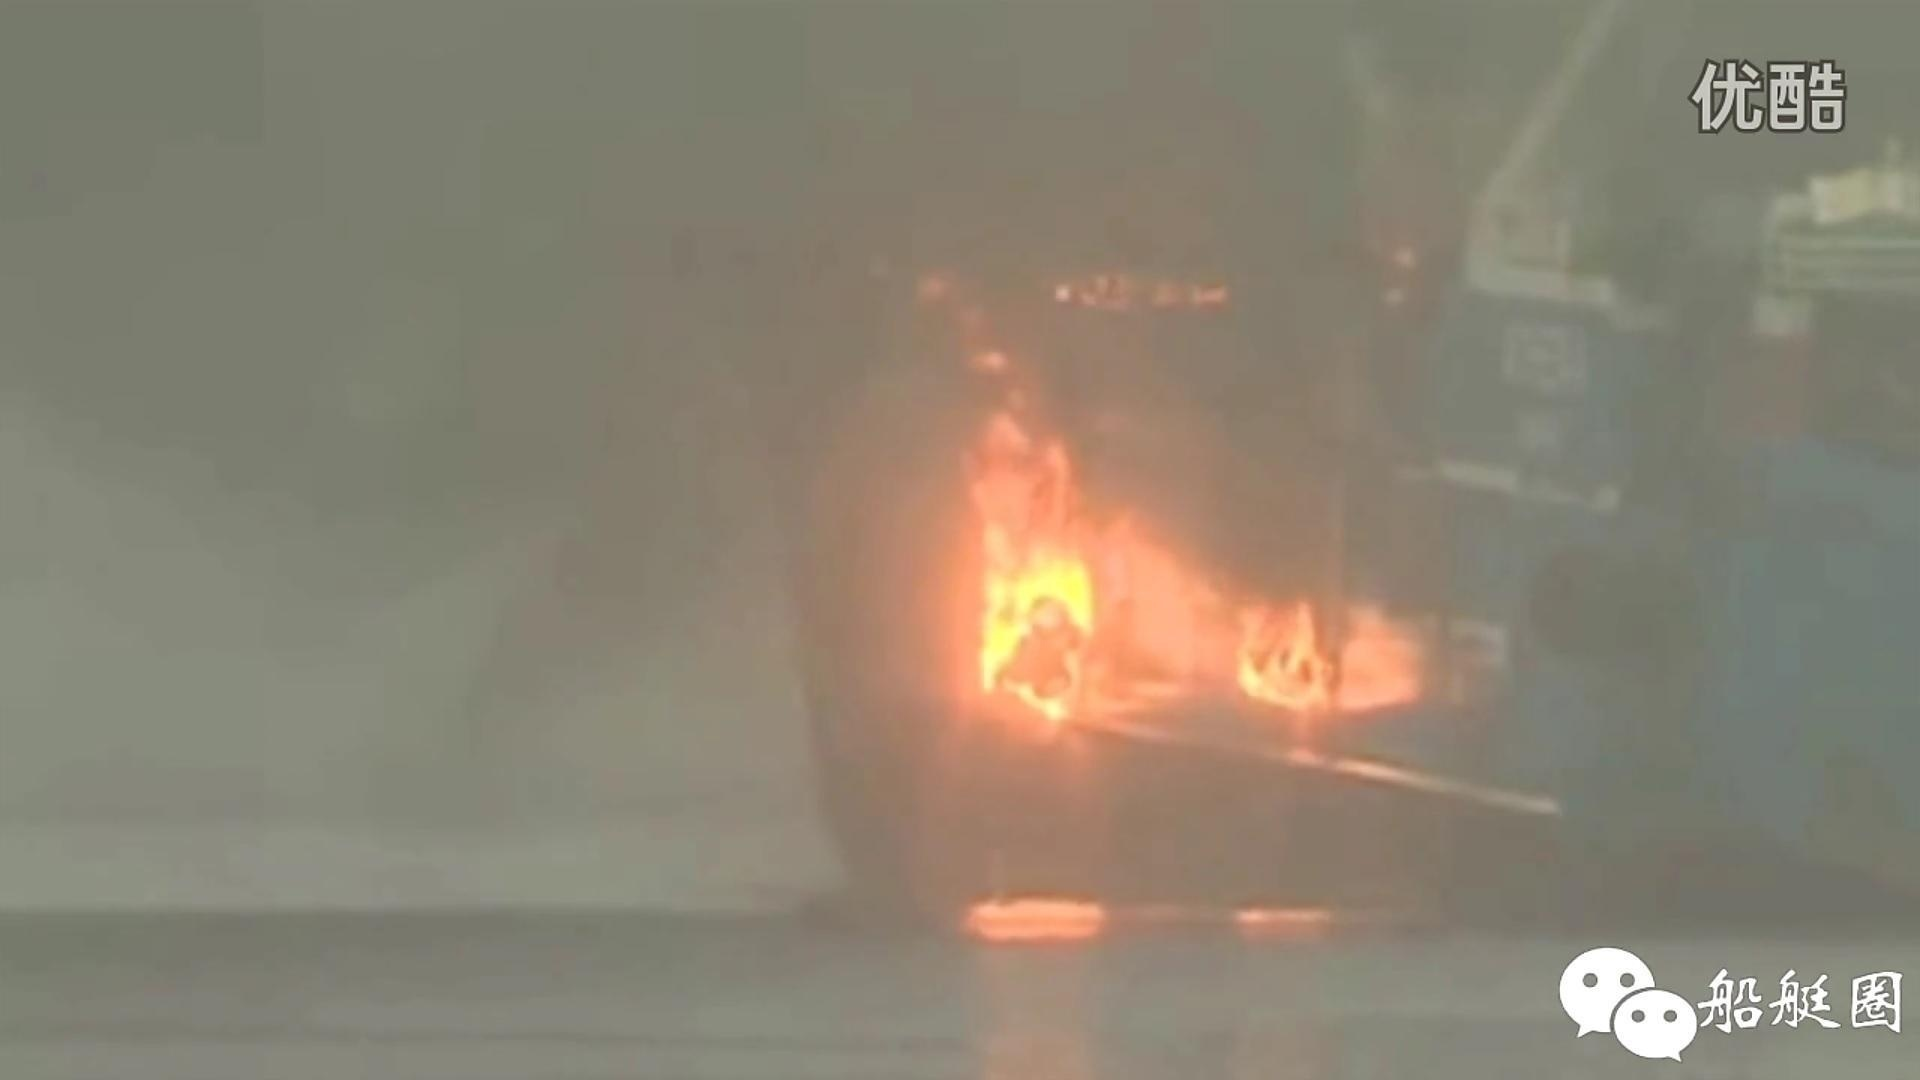fire: (938, 388, 1425, 735)
